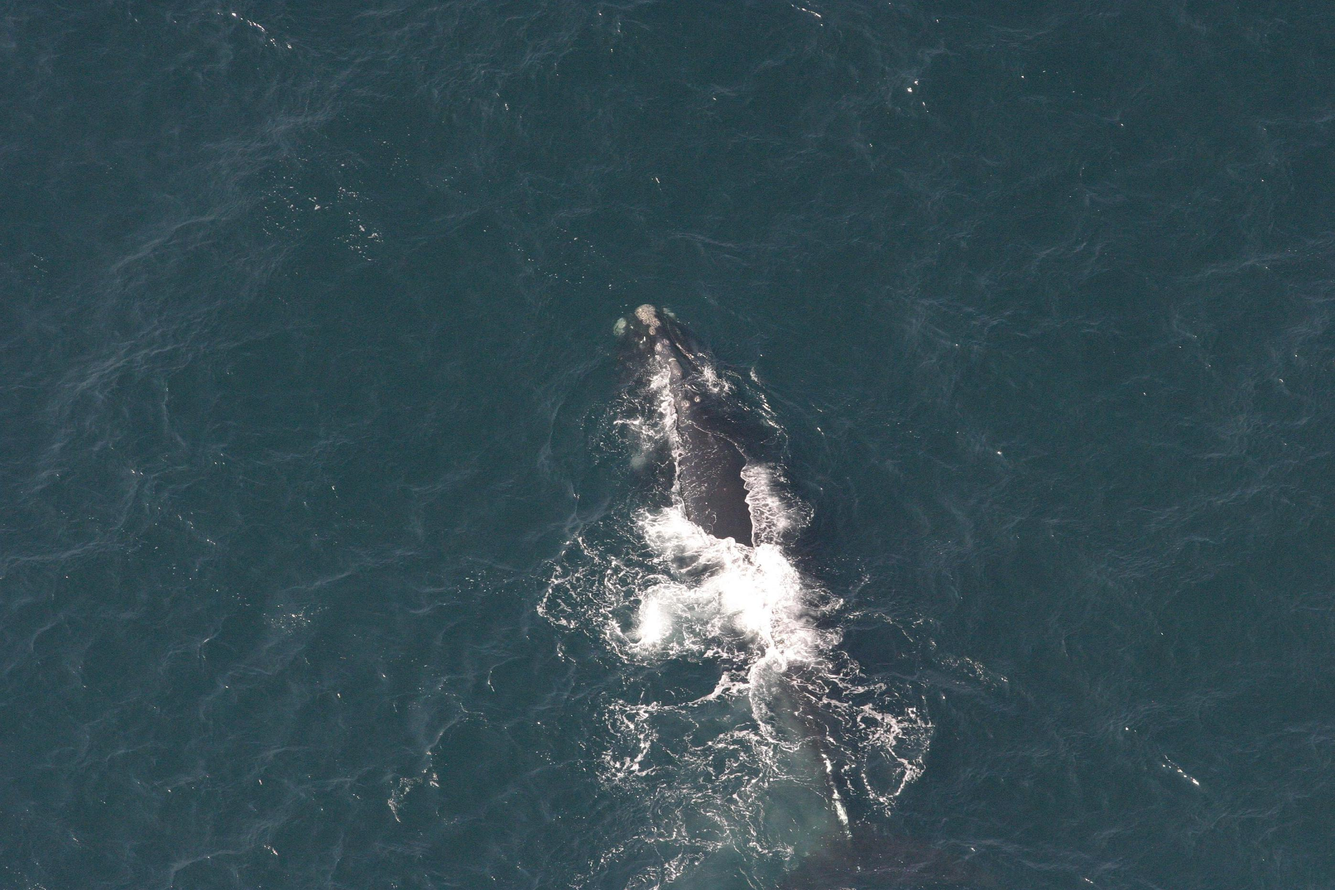whale: (603, 293, 965, 890)
